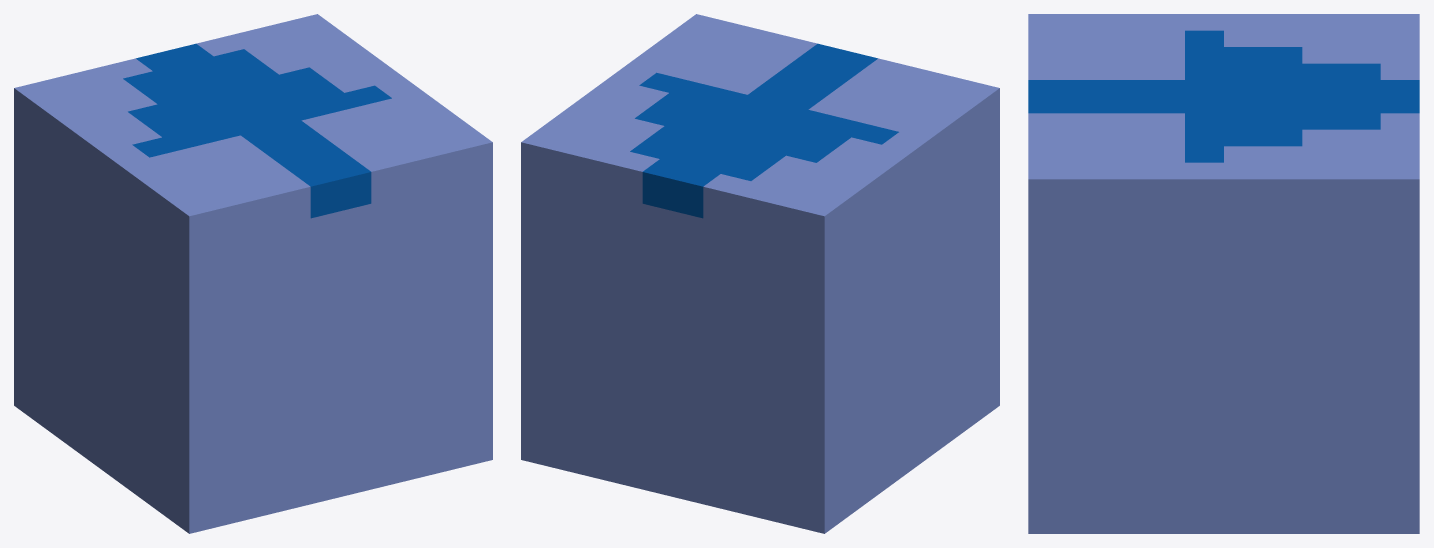
Rendered from item.glb.
The picture shows the model from 3 angles, left to right: view 1: azimuth 30°, elevation 25°; view 2: azimuth 150°, elevation 25°; view 3: azimuth 270°, elevation 25°; orthographic projection. The views are drawn at different scales.
Parts seen in each view (by area): view 1: Untitled; view 2: Untitled; view 3: Untitled.
Part boxes in pixels (x1,y1,x2,y2): Untitled: (14,14,492,533); Untitled: (521,14,999,533); Untitled: (1028,14,1419,533).
Size of the model in its own units: 0.3 by 0.3 by 0.3.
1 material, 1 textured.
